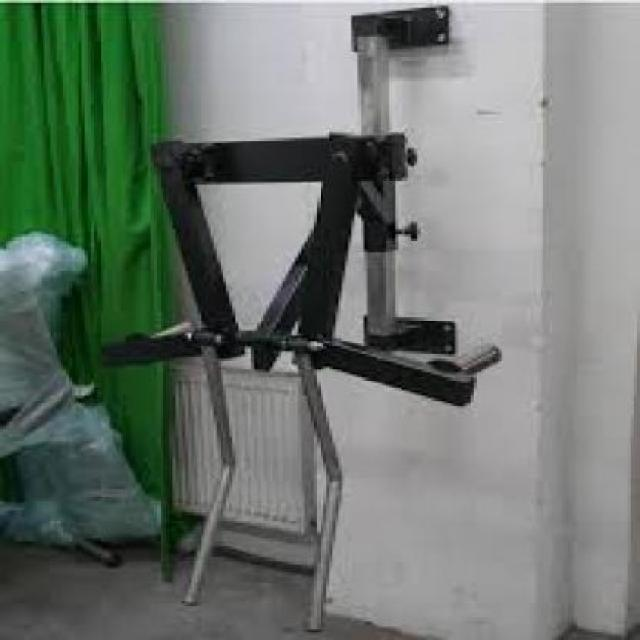lateral raises machine: (96, 7, 504, 636)
